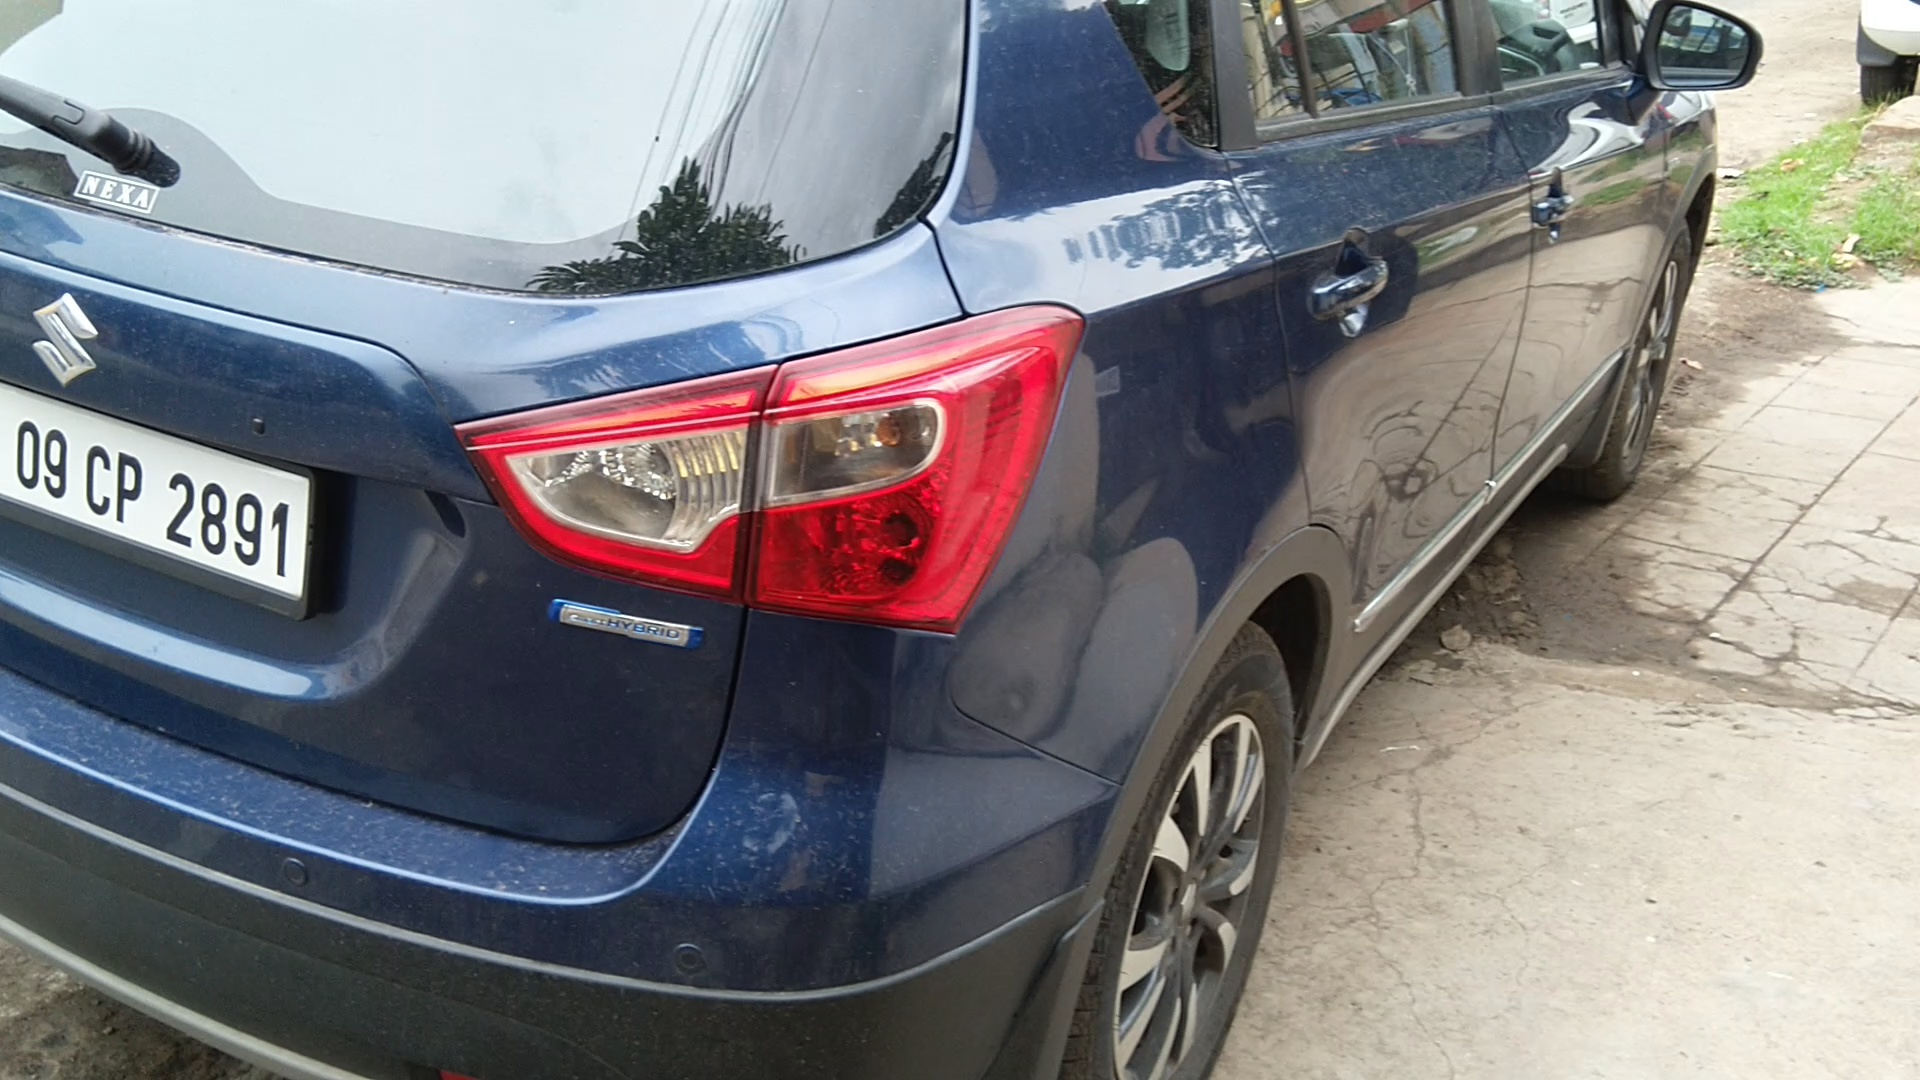alloy_wheel: (1087, 647, 1305, 1080)
shvs: (531, 570, 724, 682)
